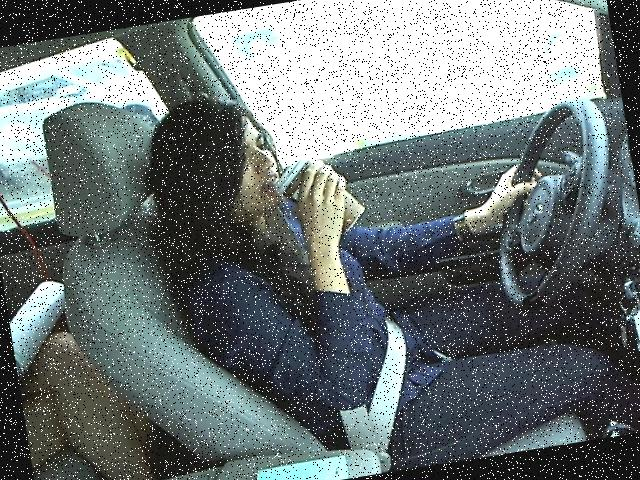c4 - Drinking: (127, 36, 638, 439)
